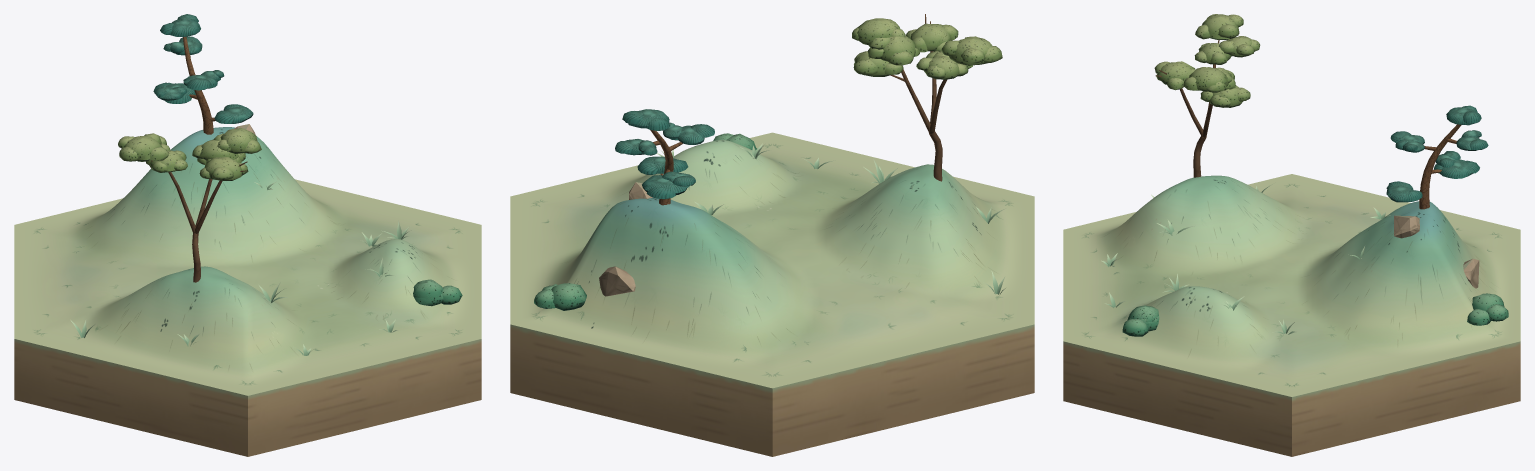
Rendered from Hex_Hill.glb.
3 renders of one model, left to right at view 1: azimuth 30°, elevation 25°; view 2: azimuth 150°, elevation 25°; view 3: azimuth 270°, elevation 25°, orthographic. The views are drawn at different scales.
Visible parts, largest first — view 1: Hex_Hill; view 2: Hex_Hill; view 3: Hex_Hill.
Boxes of the visible parts, bbox=[...] form: Hex_Hill: bbox=[14, 14, 481, 456]; Hex_Hill: bbox=[510, 14, 1034, 456]; Hex_Hill: bbox=[1063, 14, 1520, 456].
Size of the model in its own units: 8 by 4.36 by 6.93.
Materials: 2 (2 with a texture image).
